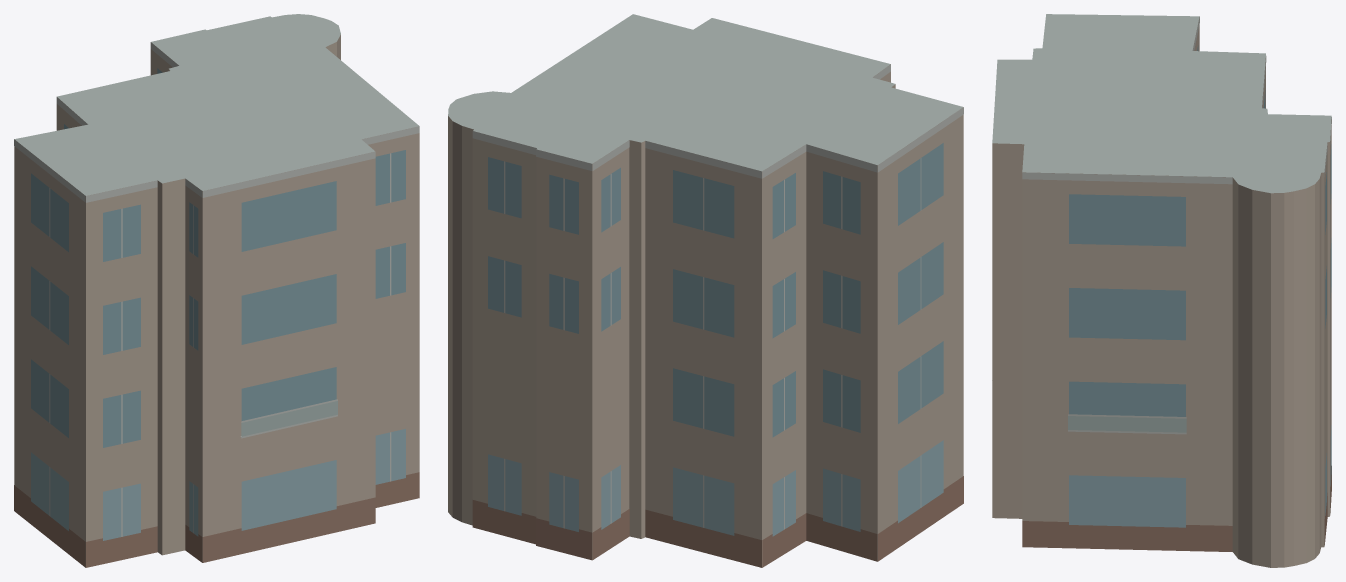
Rendered from survey-upis-32470871.glb.
The picture shows the model from 3 angles, left to right: view 1: azimuth 30°, elevation 25°; view 2: azimuth 150°, elevation 25°; view 3: azimuth 270°, elevation 25°; orthographic projection. The views are drawn at different scales.
Parts seen in each view (by area): view 1: survey-upis-32470871.tmp; view 2: survey-upis-32470871.tmp; view 3: survey-upis-32470871.tmp.
Boxes of the visible parts, x1=… form: survey-upis-32470871.tmp: x1=14, y1=14, x2=419, y2=567; survey-upis-32470871.tmp: x1=448, y1=14, x2=963, y2=567; survey-upis-32470871.tmp: x1=992, y1=14, x2=1331, y2=567.
Bounding box in the file's own units: 13.44 × 13.1 × 10.77.
